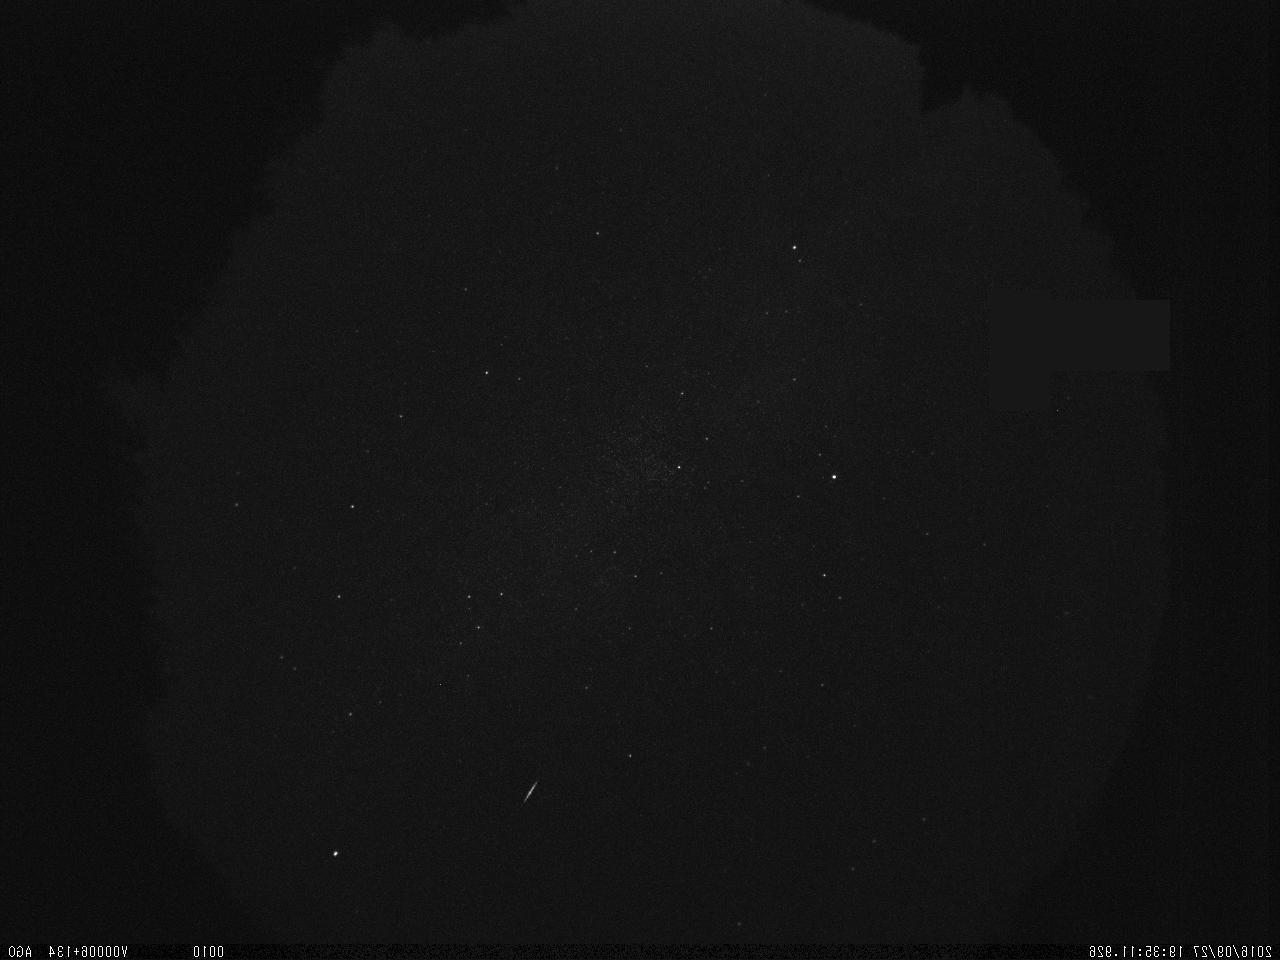meteor: (518, 774, 544, 810)
